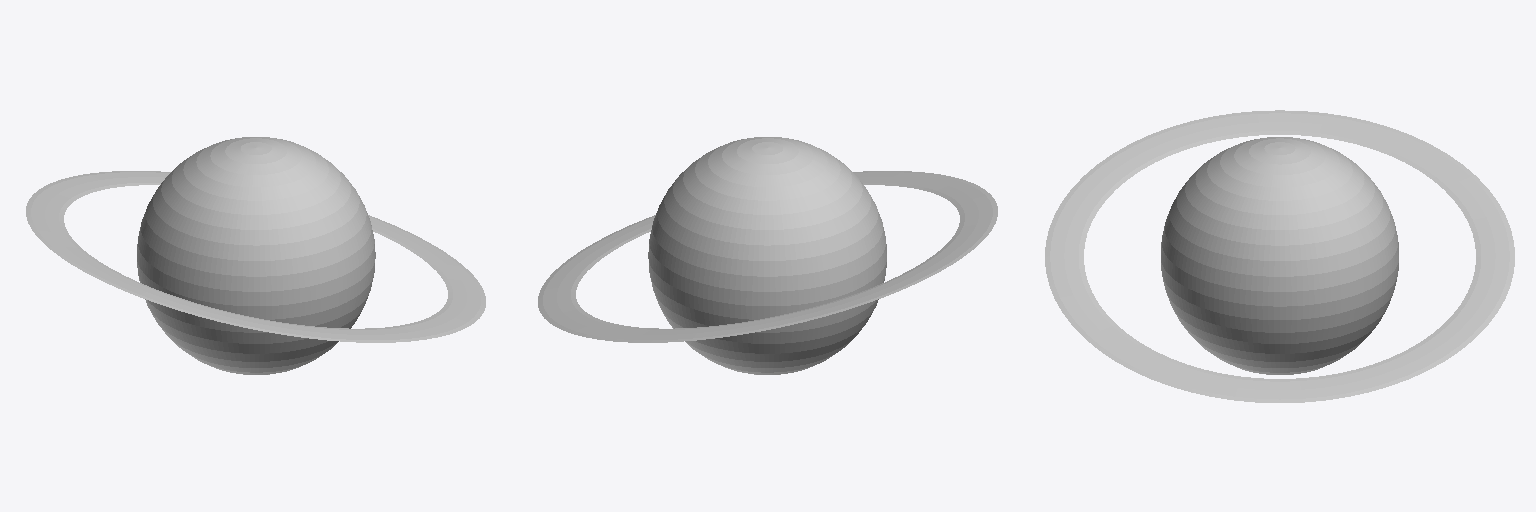
The model's file is Saturn.obj.
3 views of the same model, side by side, from view 1: azimuth 30°, elevation 25°; view 2: azimuth 150°, elevation 25°; view 3: azimuth 270°, elevation 25° (orthographic).
Parts seen in each view (by area): view 1: Sphere_Material.002_0.006, Circle_ring_0; view 2: Sphere_Material.002_0.006, Circle_ring_0; view 3: Sphere_Material.002_0.006, Circle_ring_0.
Boxes of the visible parts, x1,y1,x2,y2 form: Sphere_Material.002_0.006: [137, 137, 375, 374]; Circle_ring_0: [26, 171, 485, 342]; Sphere_Material.002_0.006: [648, 137, 886, 374]; Circle_ring_0: [538, 171, 997, 342]; Sphere_Material.002_0.006: [1161, 137, 1398, 374]; Circle_ring_0: [1045, 110, 1514, 402].
Size of the model in its own units: 139 by 72.37 by 142.